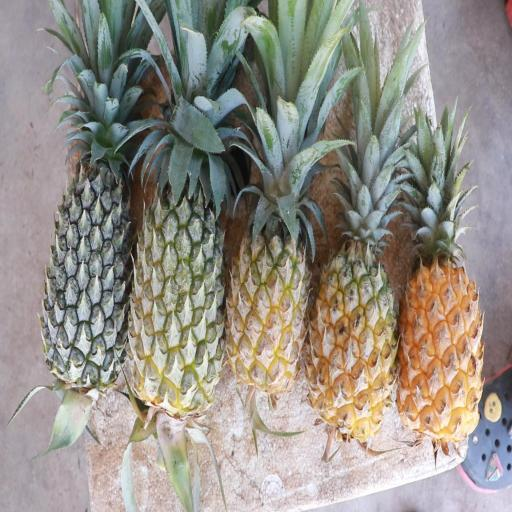------------------------------: (130, 160, 224, 418)
Pineapple - v8 v1: (394, 238, 482, 434), (226, 182, 306, 388), (314, 226, 393, 433)
